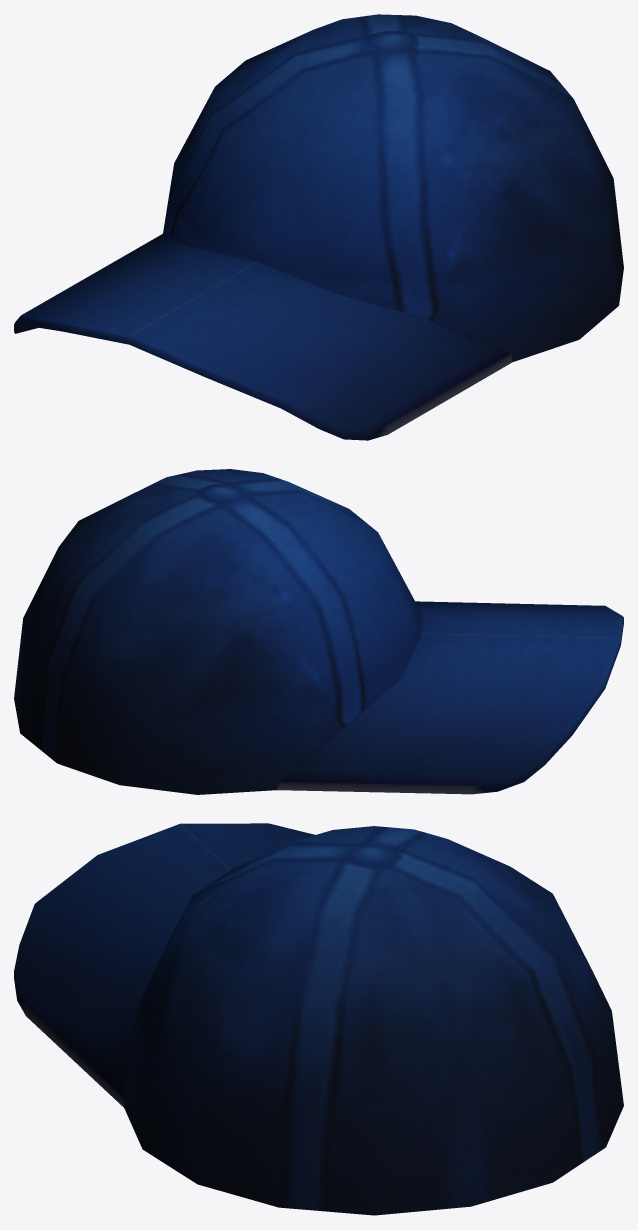
Rendered from ShenMiRenJia_01_lansemaozi_01.FBX.
3 views of the same model, one above another, from view 1: azimuth 30°, elevation 25°; view 2: azimuth 150°, elevation 25°; view 3: azimuth 270°, elevation 25° (orthographic). The views are drawn at different scales.
Visible parts, largest first — view 1: ShenMiRenJia_01_lansemaozi_01; view 2: ShenMiRenJia_01_lansemaozi_01; view 3: ShenMiRenJia_01_lansemaozi_01.
Boxes of the visible parts, <box> form: ShenMiRenJia_01_lansemaozi_01: <box>14,14,623,440</box>; ShenMiRenJia_01_lansemaozi_01: <box>14,469,623,794</box>; ShenMiRenJia_01_lansemaozi_01: <box>14,823,623,1215</box>.
Bounding box in the file's own units: 285 × 114 × 243.
